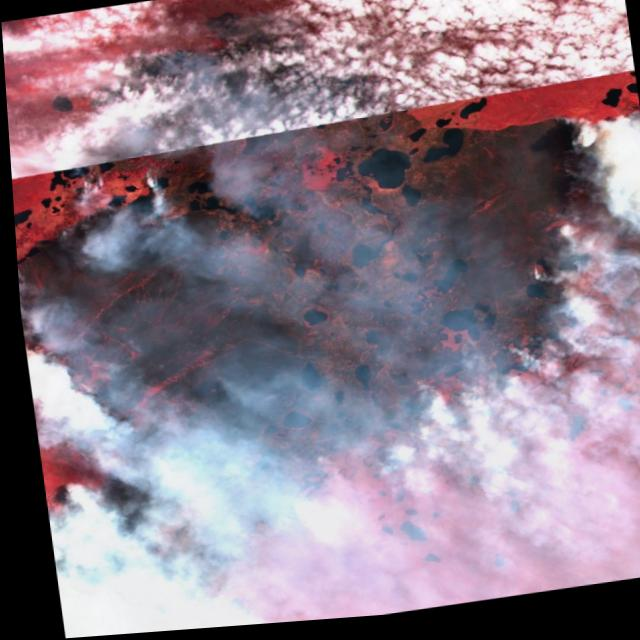fire: (350, 104, 640, 458), (9, 156, 215, 514)
